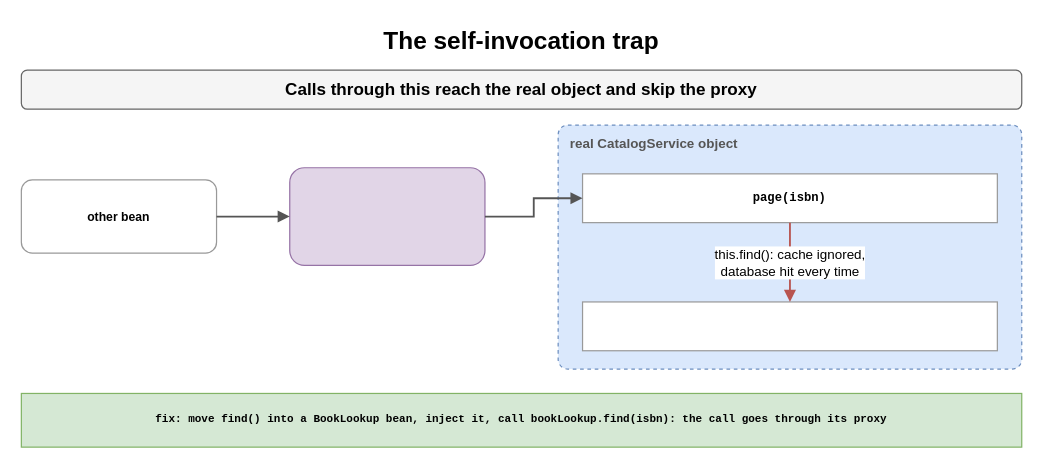
The diagram is 1043 pixels wide and 468 high, and some of its shapes have lost their labels. Here are the shapes that lost their labels. From the top down, the centre of each, then its label:
(x=387, y=216): CatalogService proxy
(x=789, y=326): @Cacheable("books") find(isbn)
